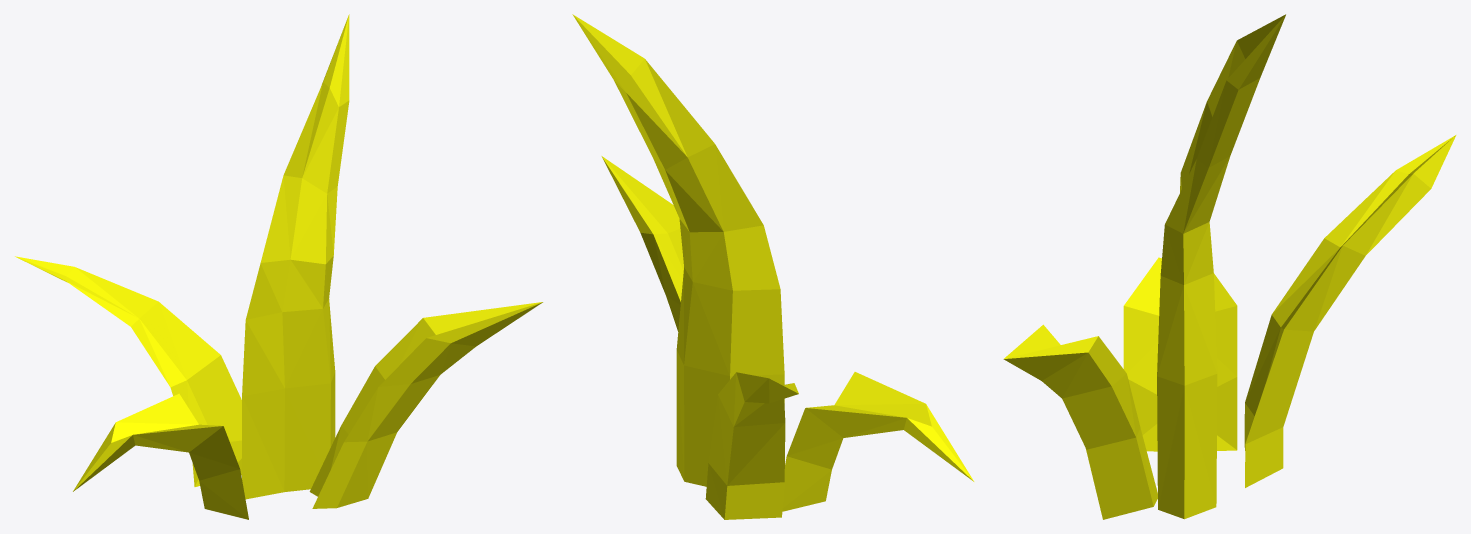
The model's file is _grass_1.glb.
The picture shows the model from 3 angles, left to right: view 1: azimuth 30°, elevation 25°; view 2: azimuth 150°, elevation 25°; view 3: azimuth 270°, elevation 25°; orthographic projection. The views are drawn at different scales.
Visible parts, largest first — view 1: grass_1; view 2: grass_1; view 3: grass_1.
Part boxes in pixels (x1,y1,x2,y2): grass_1: [15, 14, 542, 519]; grass_1: [572, 14, 974, 519]; grass_1: [1003, 14, 1456, 519].
Size of the model in its own units: 0.7765 by 0.7738 by 0.5899.
Materials: 1 (1 with a texture image).
